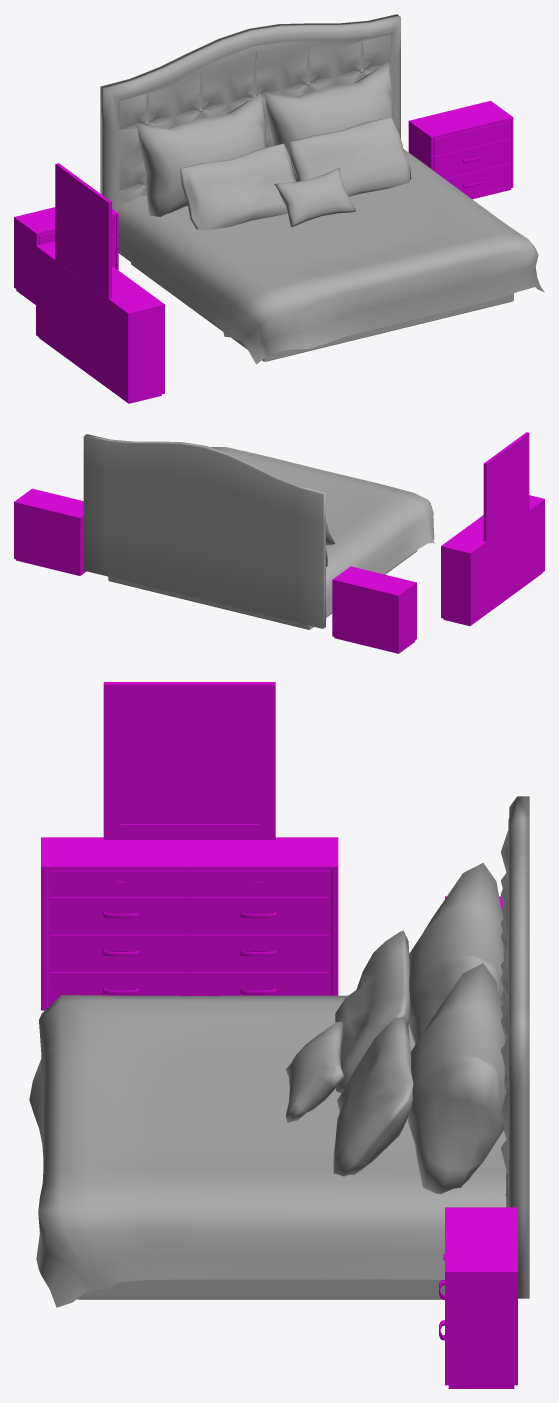
File: Cama_Completa.fbx
3 renders of one model, top to bottom at view 1: azimuth 30°, elevation 25°; view 2: azimuth 150°, elevation 25°; view 3: azimuth 270°, elevation 25°, orthographic. The views are drawn at different scales.
Visible parts, largest first — view 1: sabana:polySurface1, cabecera_low, pCube23, cojin1_grande_low, almohada1_larga_low, almohada2_larga_low, cojin2_grande_low, pCube46, polySurface1, cojin_pequeno_low, polySurface2, base_cama_low (+3 smaller); view 2: cabecera_low, sabana:polySurface1, pCube23, polySurface2, polySurface1, pCube46, base_cama_low; view 3: sabana:polySurface1, pCube46, cojin2_grande_low, pCube23, polySurface1, cabecera_low, cojin1_grande_low, almohada2_larga_low, base_cama_low, almohada1_larga_low, pCube56, pCube55 (+7 smaller).
Part boxes in pixels (x1,y1,x2,y2): sabana:polySurface1: [117, 149, 544, 364]; cabecera_low: [100, 14, 400, 212]; pCube23: [36, 241, 164, 403]; cojin1_grande_low: [135, 92, 265, 216]; almohada1_larga_low: [179, 143, 296, 229]; almohada2_larga_low: [288, 117, 411, 196]; cojin2_grande_low: [263, 61, 393, 181]; pCube46: [55, 163, 111, 298]; polySurface1: [408, 101, 513, 199]; cojin_pequeno_low: [274, 168, 355, 226]; polySurface2: [14, 207, 118, 304]; base_cama_low: [131, 262, 513, 361]; cabecera_low: [83, 434, 325, 628]; sabana:polySurface1: [211, 447, 434, 614]; pCube23: [441, 495, 544, 626]; polySurface2: [332, 566, 416, 653]; polySurface1: [14, 488, 86, 575]; pCube46: [483, 432, 529, 541]; base_cama_low: [108, 550, 417, 629]; sabana:polySurface1: [29, 995, 506, 1307]; pCube46: [103, 682, 275, 839]; cojin2_grande_low: [408, 963, 506, 1193]; pCube23: [41, 837, 338, 1010]; polySurface1: [445, 1207, 517, 1388]; cabecera_low: [500, 796, 529, 1298]; cojin1_grande_low: [409, 863, 504, 1044]; almohada2_larga_low: [333, 1016, 413, 1176]; base_cama_low: [77, 1279, 444, 1299]; almohada1_larga_low: [335, 930, 410, 1093]; pCube56: [190, 934, 329, 968]; pCube55: [190, 897, 329, 931].
Size of the model in its own units: 435 by 163 by 229.
